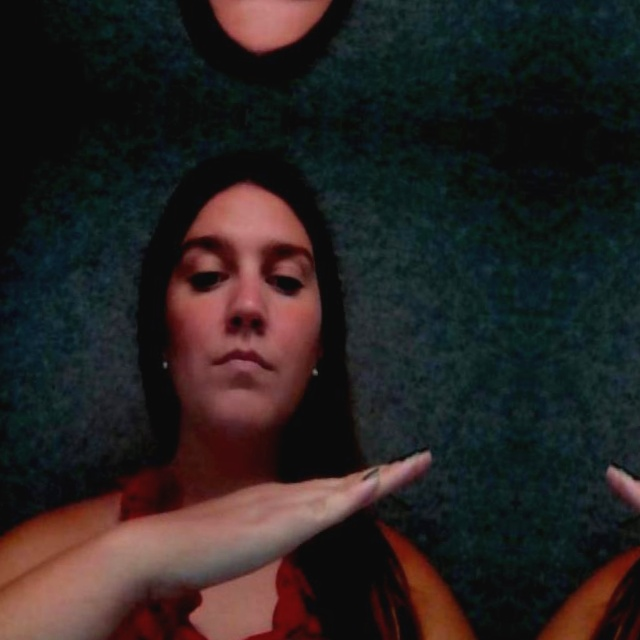Paper: (125, 425, 440, 622)
